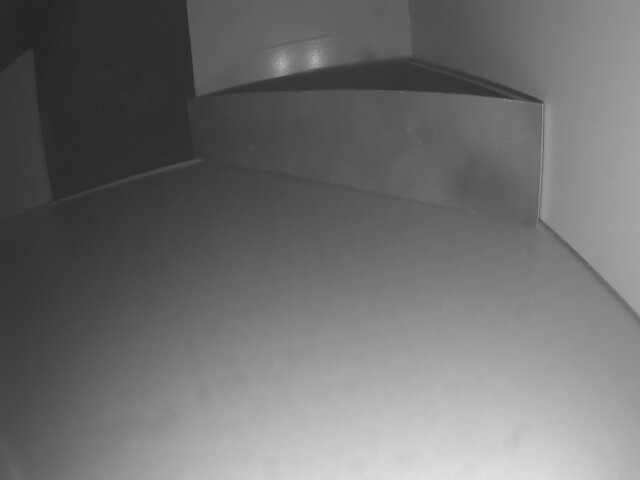Red: (187, 93, 543, 228)
